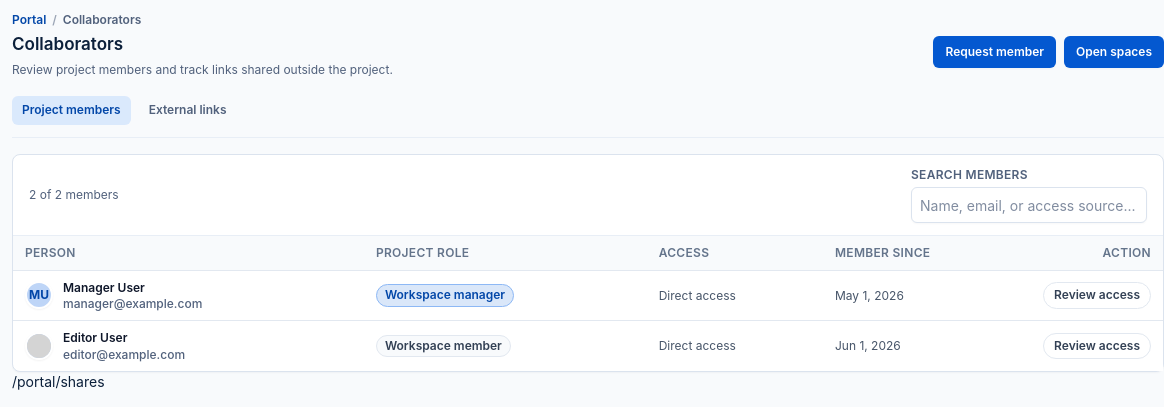
Test case: PortalSharesPage › filters project members client-side
This screenshot has width=1164, height=407.
Step 1. Type "manager" into the field labelled "Search members" → (1029, 205), box [911,187,1147,223]
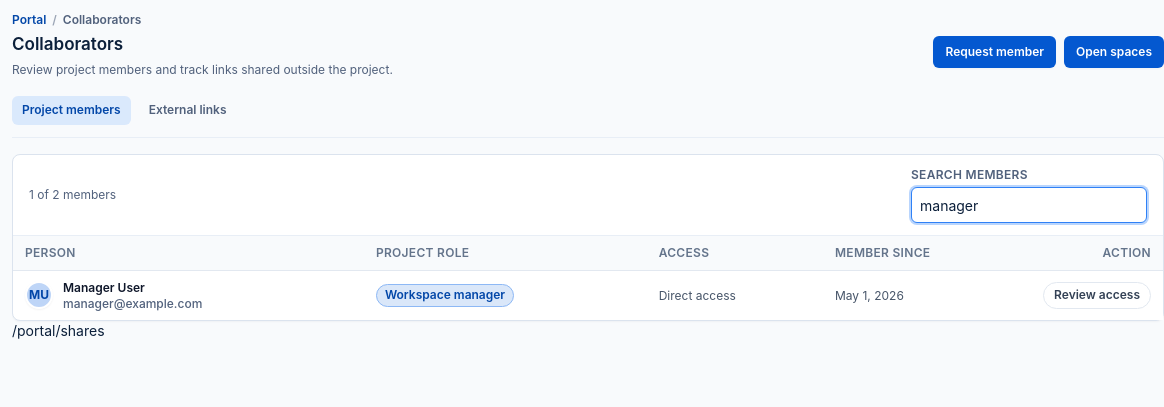
Expected: the text "Manager User" is shown, [63,280,145,295]
Expected: the text "Editor User" is gone
Expected: the text "1 of 2 members" is shown, [29,186,116,203]
